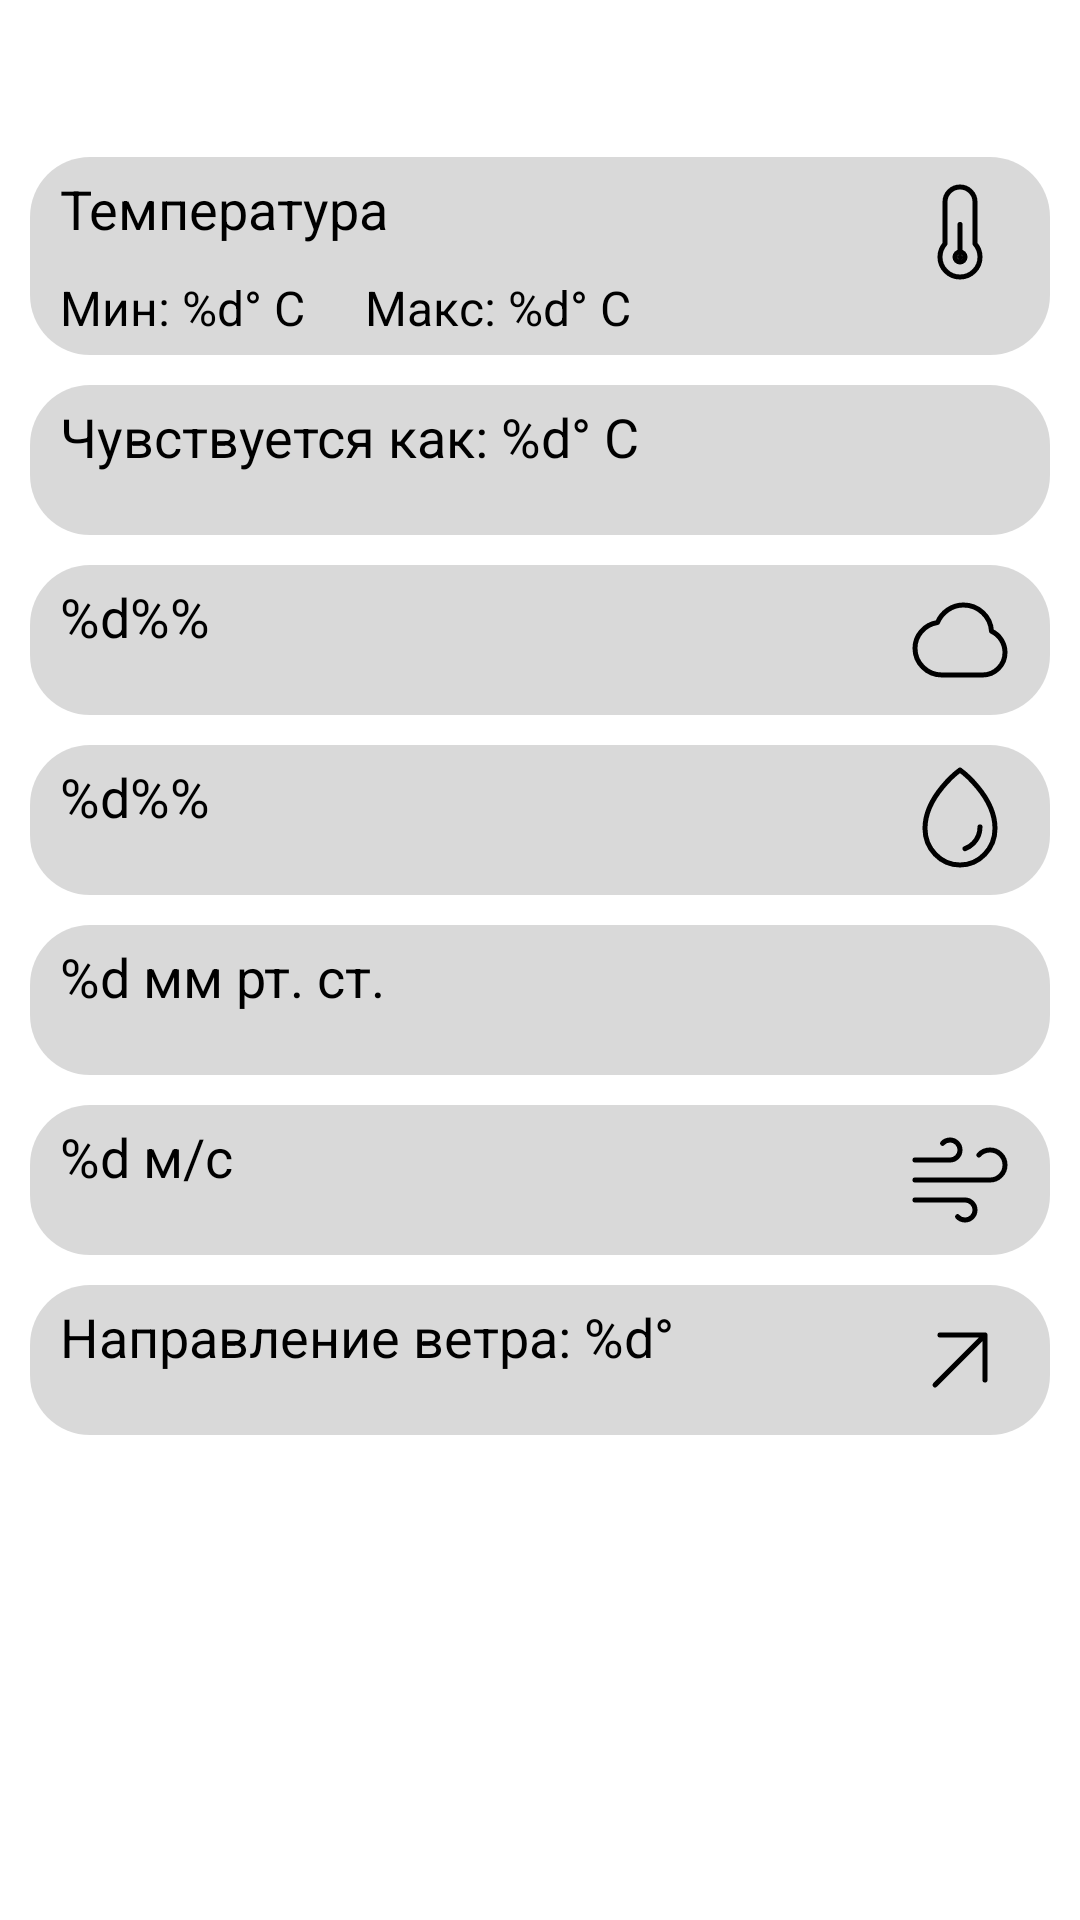

Named icons in this screenshot (1080px×1920px) and their bounding boxes, (x1, y1, x2, y2):
cloud: (912, 602, 1008, 678)
direction: (932, 1332, 988, 1388)
temperature: (937, 184, 983, 280)
water: (922, 767, 998, 868)
wind: (912, 1137, 1008, 1223)
